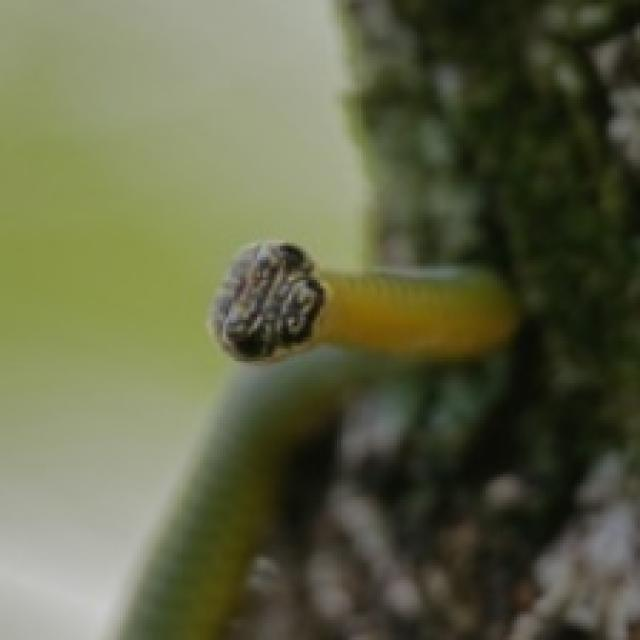paradise tree snake: (123, 243, 514, 637), (211, 243, 514, 360)
